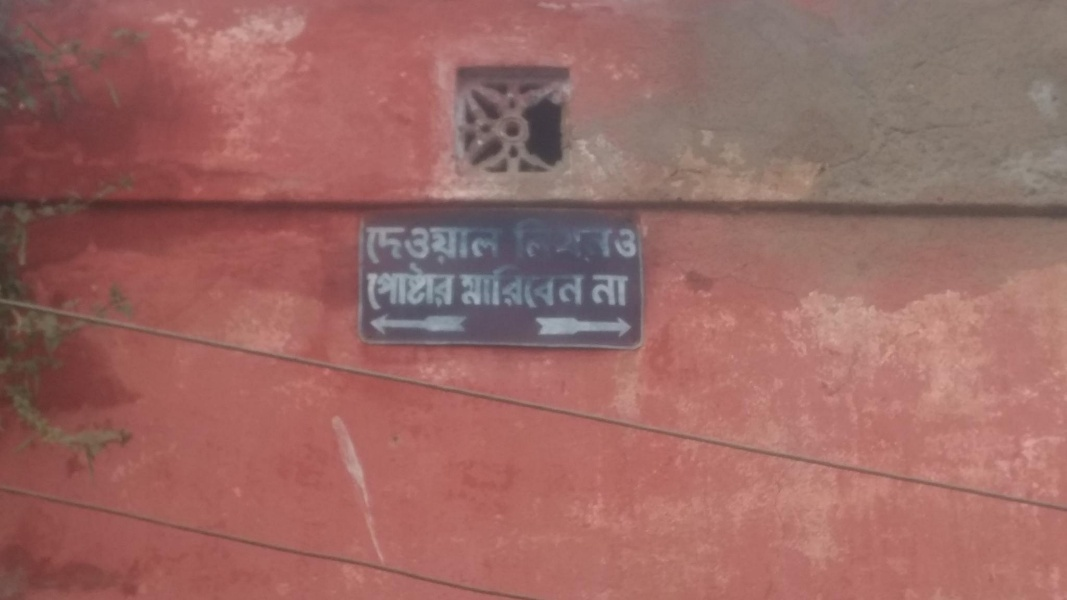text: (529, 216, 544, 264), (545, 216, 560, 264), (561, 216, 576, 264), (577, 216, 592, 264), (593, 216, 608, 264), (369, 263, 384, 311), (385, 263, 400, 311), (401, 263, 416, 311), (417, 263, 432, 311), (433, 263, 448, 311), (514, 216, 528, 264), (465, 266, 480, 308), (481, 266, 496, 308), (497, 266, 512, 308), (513, 266, 528, 308), (529, 266, 544, 308), (545, 266, 560, 308), (561, 266, 576, 308), (369, 224, 384, 264), (385, 224, 400, 264), (401, 224, 416, 264), (417, 224, 432, 264), (433, 224, 448, 264), (449, 224, 464, 264), (465, 224, 480, 264), (481, 224, 496, 264), (625, 225, 640, 260), (593, 271, 608, 306), (609, 271, 624, 306), (577, 266, 588, 308), (449, 263, 458, 311), (615, 225, 624, 260), (609, 216, 615, 264), (497, 224, 504, 264), (625, 271, 632, 306), (459, 266, 464, 308), (366, 224, 368, 264)
